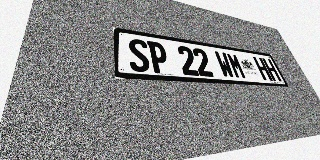2: (191, 47, 214, 77), (177, 45, 199, 76)
H: (253, 57, 273, 81), (262, 58, 282, 81)
M: (226, 53, 247, 79)
P: (147, 41, 170, 74)
S: (128, 38, 151, 73)
W: (214, 51, 236, 78)
